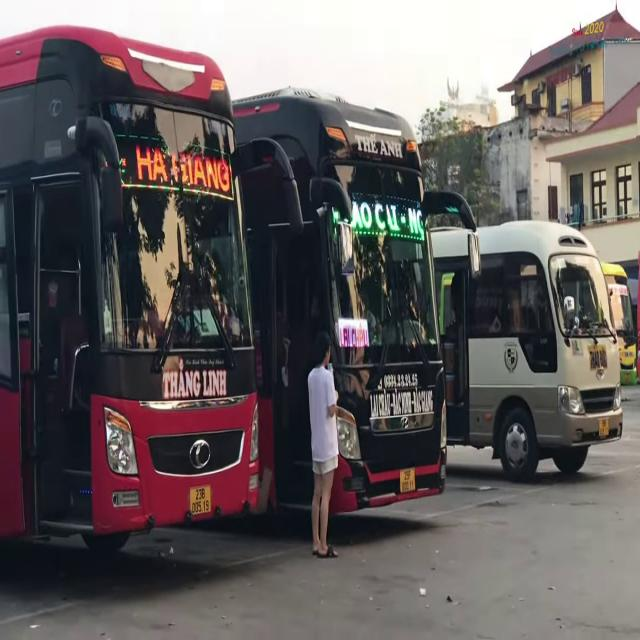bien_vang: (188, 483, 212, 516), (399, 468, 416, 496)
